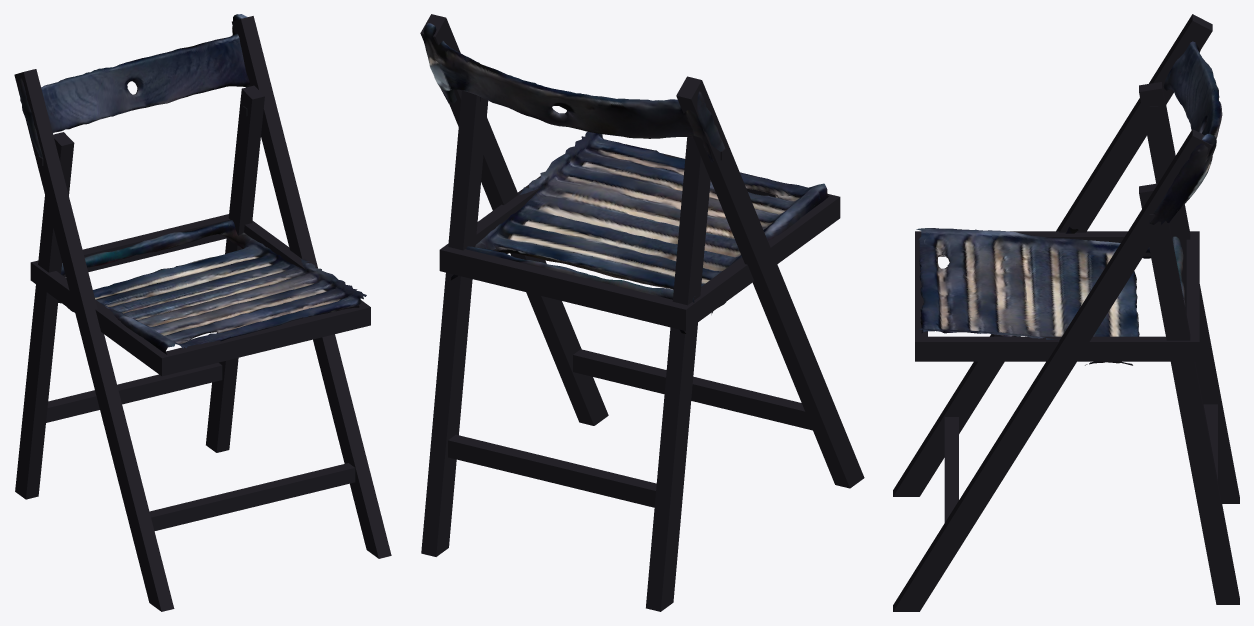
File: chair.glb
3 views of the same model, side by side, from view 1: azimuth 30°, elevation 25°; view 2: azimuth 150°, elevation 25°; view 3: azimuth 270°, elevation 25° (orthographic). The views are drawn at different scales.
Visible parts, largest first — view 1: chair; view 2: chair; view 3: chair.
Part boxes in pixels (box(x1,y1,x2,y2)): chair: box(14, 14, 391, 611); chair: box(420, 14, 864, 611); chair: box(893, 14, 1239, 611).
Bounding box in the file's own units: 0.4057 × 0.726 × 0.4792.
Materials: 2 (1 with a texture image).
